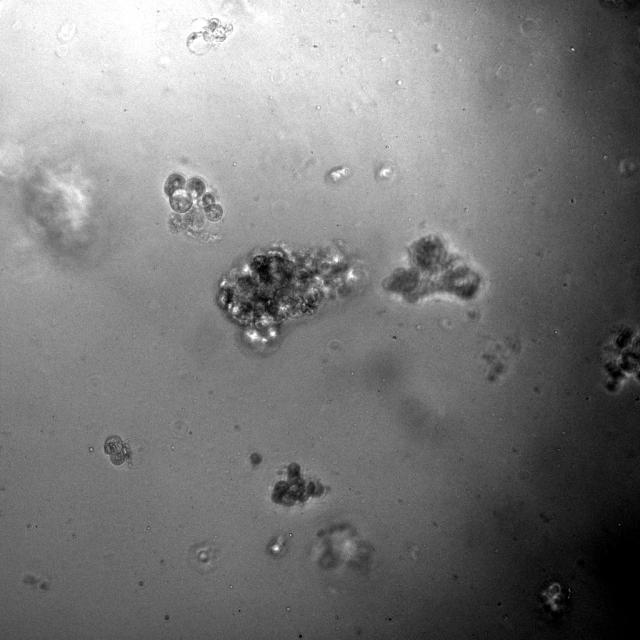organoid: (217, 245, 360, 356), (383, 234, 481, 302), (163, 173, 223, 232), (602, 325, 639, 393), (271, 463, 324, 507), (187, 18, 233, 55), (104, 435, 131, 466)
